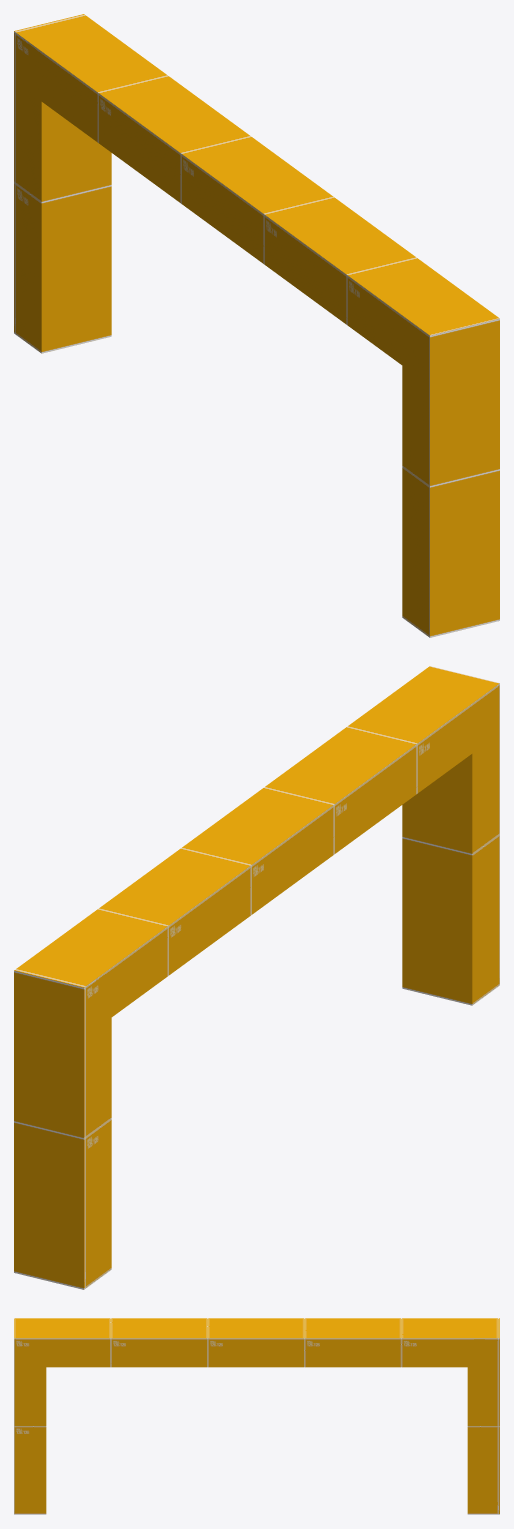
Rendered from WallBlock.fbx.
3 renders of one model, top to bottom at view 1: azimuth 30°, elevation 25°; view 2: azimuth 150°, elevation 25°; view 3: azimuth 270°, elevation 25°, orthographic. The views are drawn at different scales.
Parts seen in each view (by area): view 1: WallBlock; view 2: WallBlock; view 3: WallBlock.
Boxes of the visible parts, box(x1,y1,x2,y2) form: WallBlock: box(14, 14, 499, 637); WallBlock: box(14, 666, 499, 1289); WallBlock: box(14, 1318, 499, 1514).
Size of the model in its own units: 1.24 by 5.13 by 12.8.
